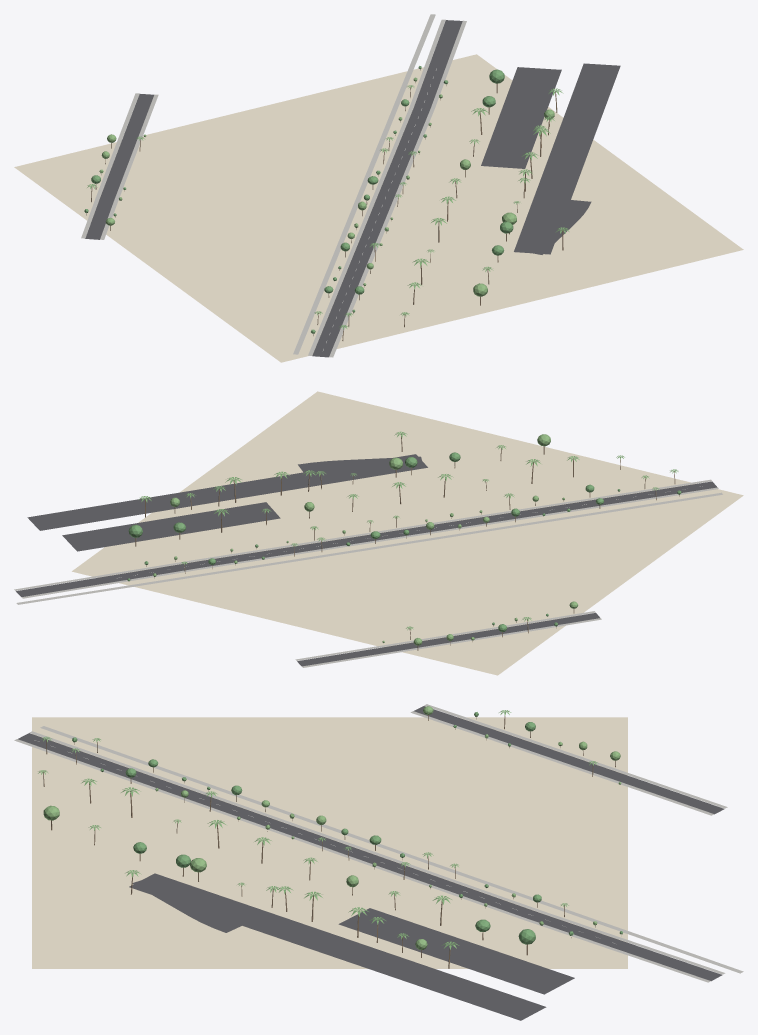
The model's file is tile_-6_1.glb.
The picture shows the model from 3 angles, top to bottom: view 1: azimuth 30°, elevation 25°; view 2: azimuth 150°, elevation 25°; view 3: azimuth 270°, elevation 25°; orthographic projection. The views are drawn at different scales.
Visible parts, largest first — view 1: nature_ground, roads_asphalt, roads_sidewalk, nature_palm_leaf, nature_foliage_a, nature_foliage_b, nature_trunk; view 2: nature_ground, roads_asphalt, roads_sidewalk, nature_palm_leaf, nature_foliage_a, nature_foliage_b, nature_trunk; view 3: nature_ground, roads_asphalt, roads_sidewalk, nature_palm_leaf, nature_foliage_a, nature_foliage_b, nature_trunk.
Part boxes in pixels (left/top/right/bottom): nature_ground: left=14, top=54, right=743, bottom=362; roads_asphalt: left=85, top=20, right=620, bottom=357; roads_sidewalk: left=81, top=14, right=466, bottom=357; nature_palm_leaf: left=87, top=85, right=569, bottom=329; nature_foliage_a: left=84, top=66, right=513, bottom=333; nature_foliage_b: left=99, top=77, right=554, bottom=296; nature_trunk: left=86, top=69, right=563, bottom=340; nature_ground: left=72, top=391, right=743, bottom=675; roads_asphalt: left=16, top=454, right=717, bottom=666; roads_sidewalk: left=14, top=479, right=722, bottom=667; nature_palm_leaf: left=138, top=431, right=678, bottom=630; nature_foliage_a: left=127, top=452, right=681, bottom=631; nature_foliage_b: left=153, top=434, right=578, bottom=645; nature_trunk: left=135, top=436, right=679, bottom=650; nature_ground: left=32, top=717, right=627, bottom=968; roads_asphalt: left=18, top=706, right=724, bottom=1020; roads_sidewalk: left=14, top=704, right=743, bottom=982; nature_palm_leaf: left=38, top=710, right=598, bottom=949; nature_foliage_a: left=72, top=712, right=622, bottom=944; nature_foliage_b: left=43, top=706, right=621, bottom=949; nature_trunk: left=43, top=715, right=615, bottom=968.
Bounding box in the file's own units: 314 × 13.35 × 306.
